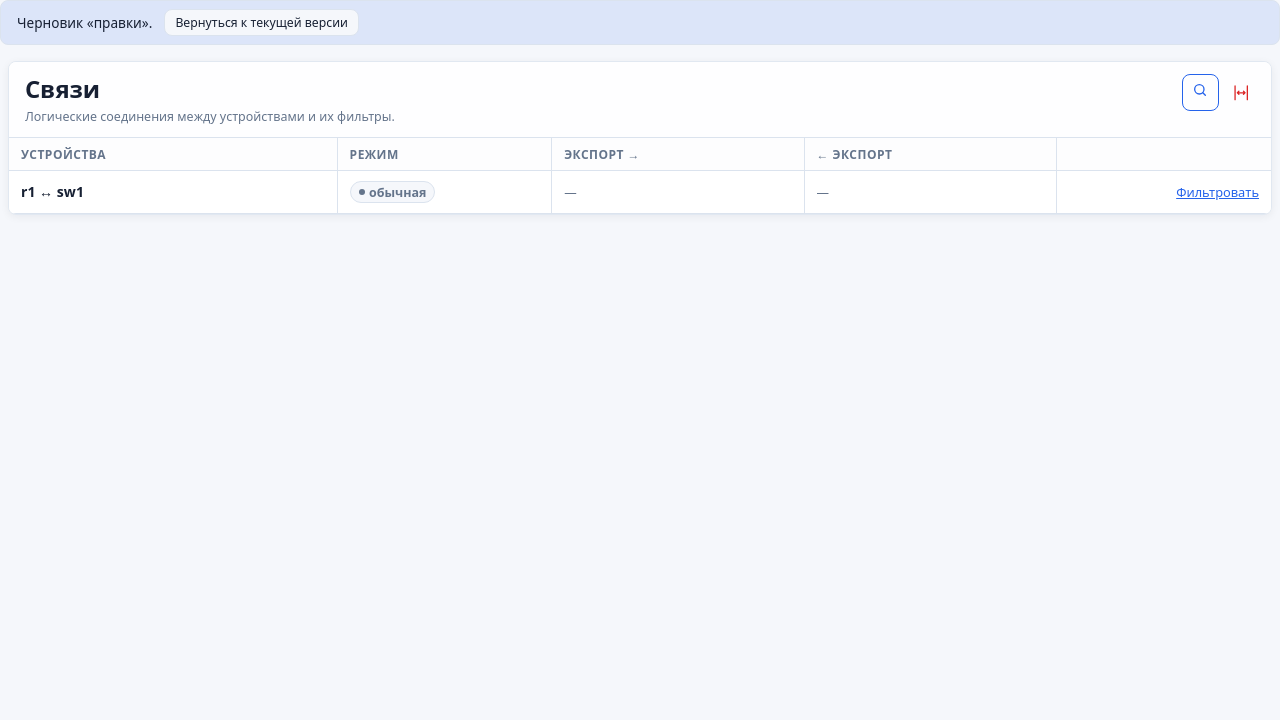
Test: LinksPage › makes a link filtered
Check: the text "r1 ↔ sw1" is shown, box 9,170 -> 337,213
Click the button titled "Сделать фильтрованной связь r1 ↔ sw1": point(1218, 192) 1176,183 -> 1259,201
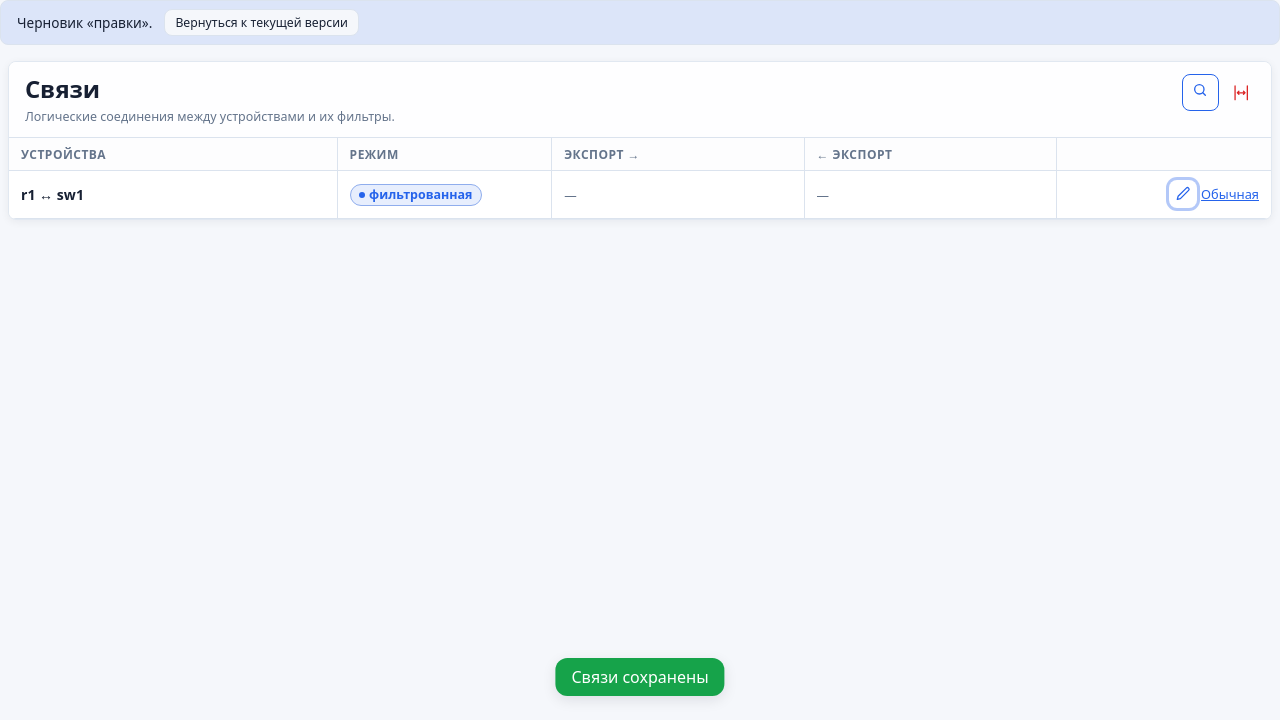
Check: the text "Связи сохранены" is shown, box 555,658 -> 725,696
